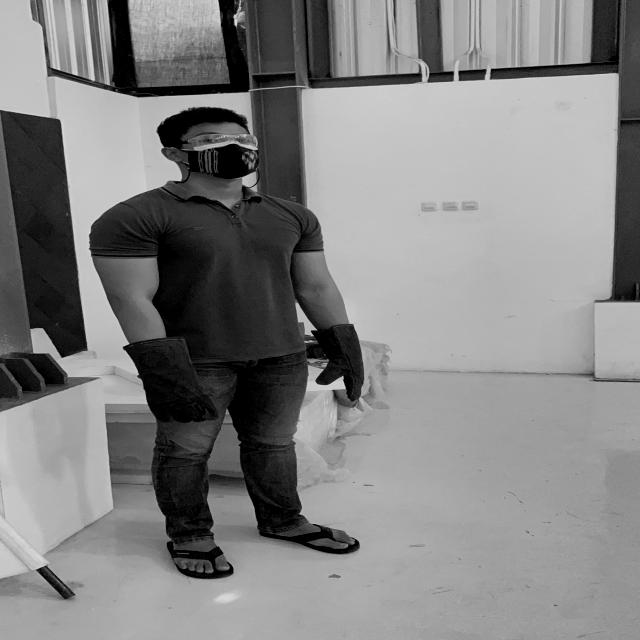face_mask: (181, 129, 263, 176)
glasses: (168, 131, 264, 152)
hand_glove: (120, 336, 218, 429), (306, 322, 382, 403)
head_nohelmet: (163, 101, 262, 133)
person: (90, 105, 368, 582)
